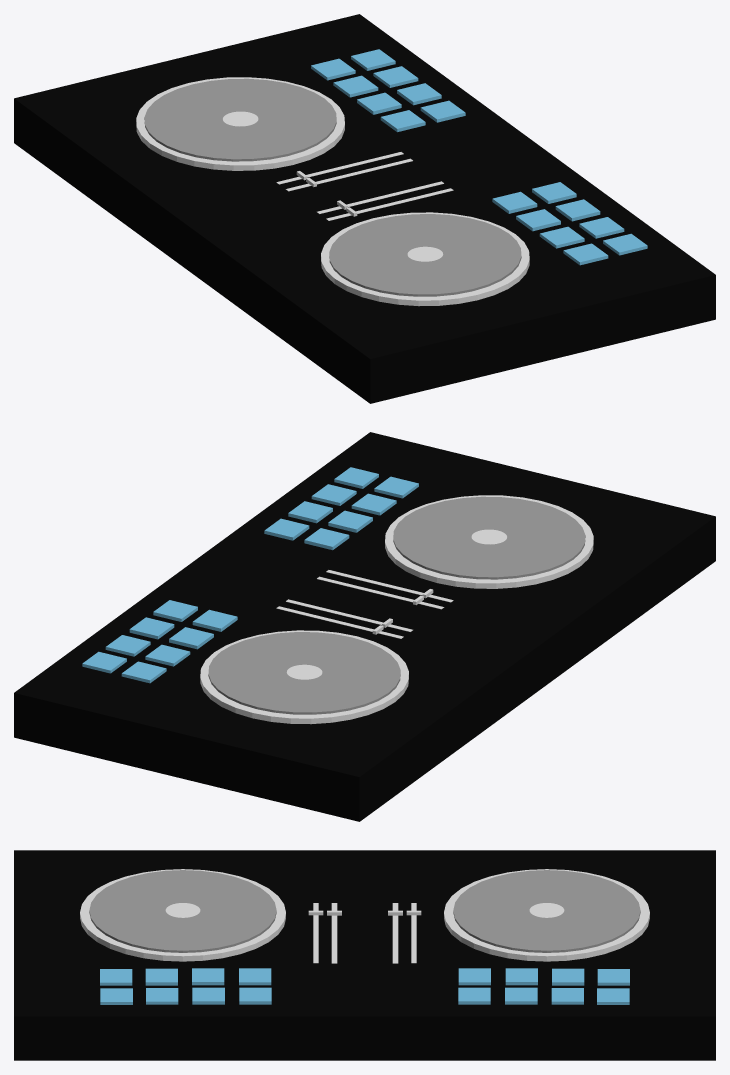
The model's file is DJ Decks.fbx.
The picture shows the model from 3 angles, top to bottom: view 1: azimuth 30°, elevation 25°; view 2: azimuth 150°, elevation 25°; view 3: azimuth 270°, elevation 25°; orthographic projection.
Visible parts, largest first — view 1: Cube; view 2: Cube; view 3: Cube.
Boxes of the visible parts, x1,y1,x2,y2 form: Cube: [14, 14, 715, 403]; Cube: [14, 432, 715, 821]; Cube: [14, 850, 715, 1060].
Bounding box in the file's own units: 4.6 × 0.668 × 8.21.
